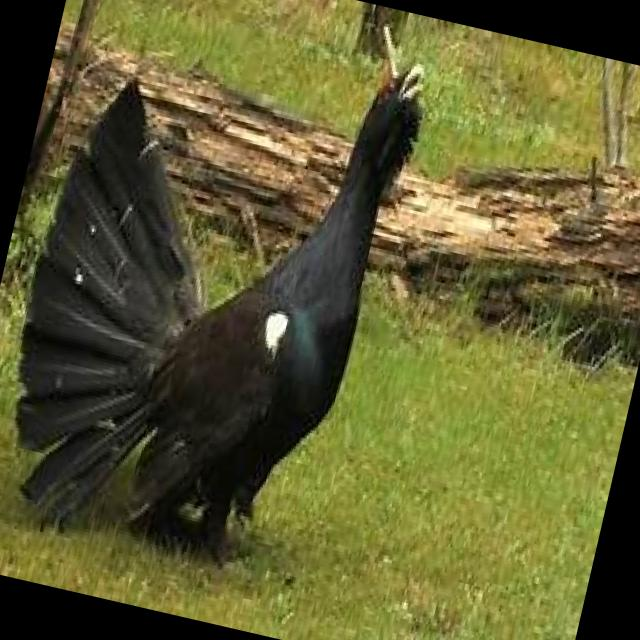chicken: (0, 0, 455, 597)
